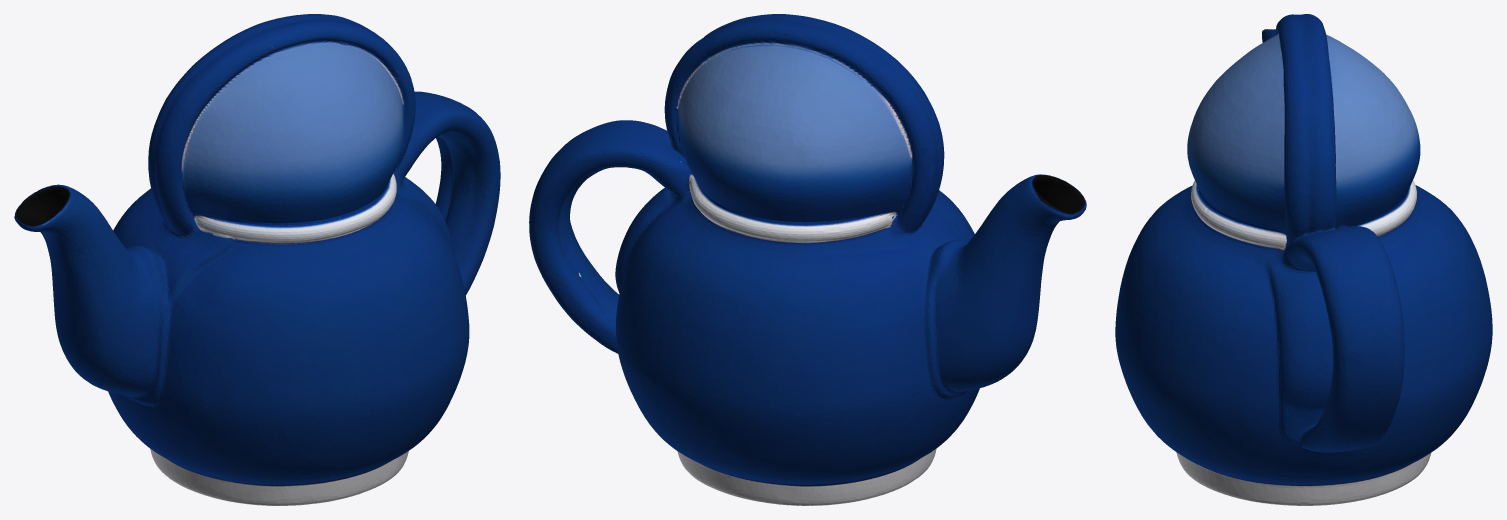
3 views of the same model, side by side, from view 1: azimuth 30°, elevation 25°; view 2: azimuth 150°, elevation 25°; view 3: azimuth 270°, elevation 25° (orthographic).
Parts seen in each view (by area): view 1: request_2026072201_c1_s2026072202.obj; view 2: request_2026072201_c1_s2026072202.obj; view 3: request_2026072201_c1_s2026072202.obj.
Part boxes in pixels (left/top/right/bottom): request_2026072201_c1_s2026072202.obj: left=14, top=14, right=500, bottom=505; request_2026072201_c1_s2026072202.obj: left=529, top=14, right=1086, bottom=505; request_2026072201_c1_s2026072202.obj: left=1115, top=14, right=1492, bottom=505.
Bounding box in the file's own units: 1.99 × 1.61 × 1.3.
Materials: 1 (1 with a texture image).
